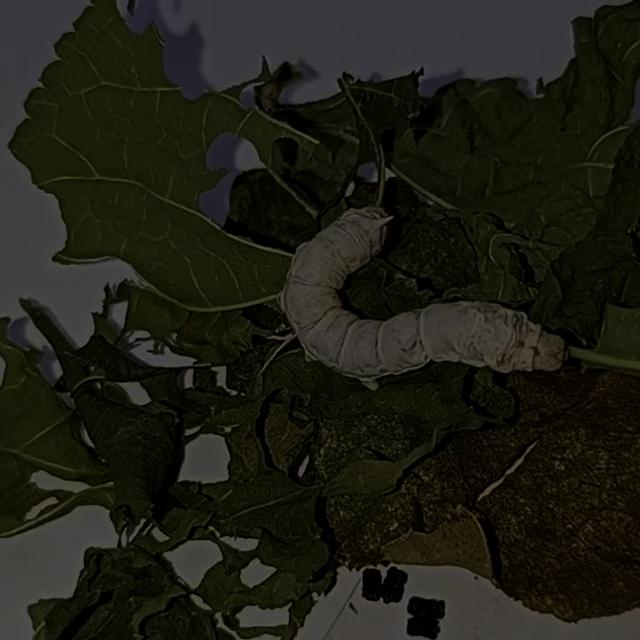Healthy: (269, 184, 585, 415)
